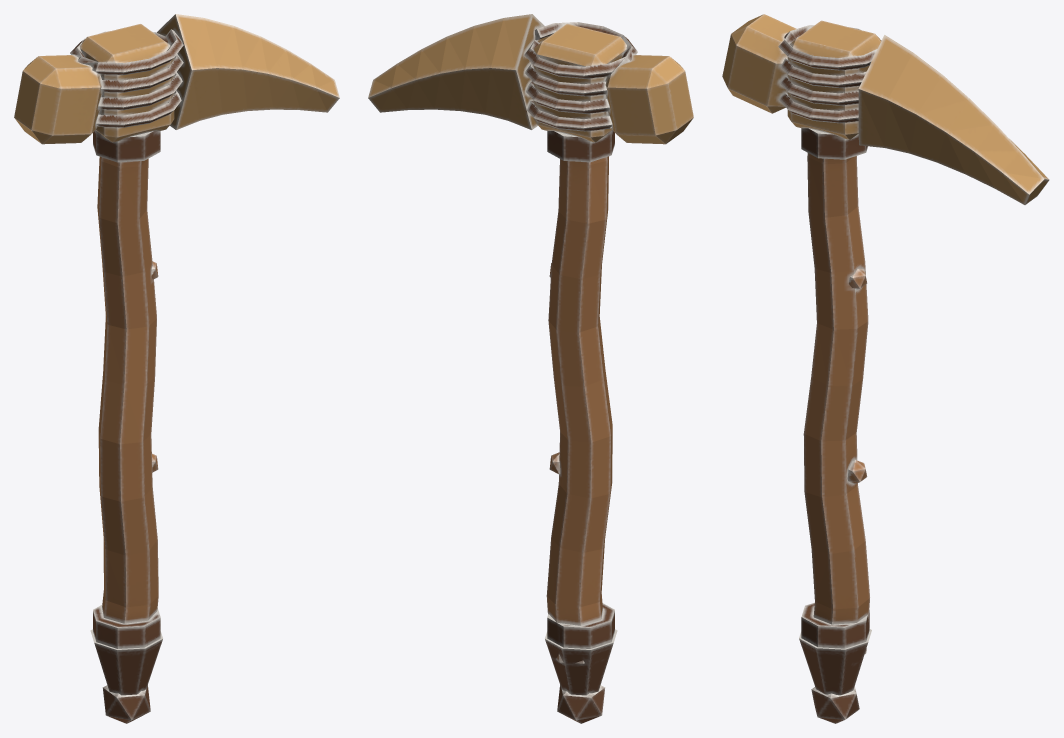
The model's file is WoodPickaxe.glb.
3 renders of one model, left to right at view 1: azimuth 30°, elevation 25°; view 2: azimuth 150°, elevation 25°; view 3: azimuth 330°, elevation 25°, orthographic.
Parts seen in each view (by area): view 1: Body__Tex; view 2: Body__Tex; view 3: Body__Tex.
Boxes of the visible parts, x1,y1,x2,y2 form: Body__Tex: (14, 14, 339, 723); Body__Tex: (368, 14, 693, 723); Body__Tex: (722, 14, 1049, 723).
Size of the model in its own units: 1.87 by 3.99 by 0.53.
Materials: 1 (1 with a texture image).
